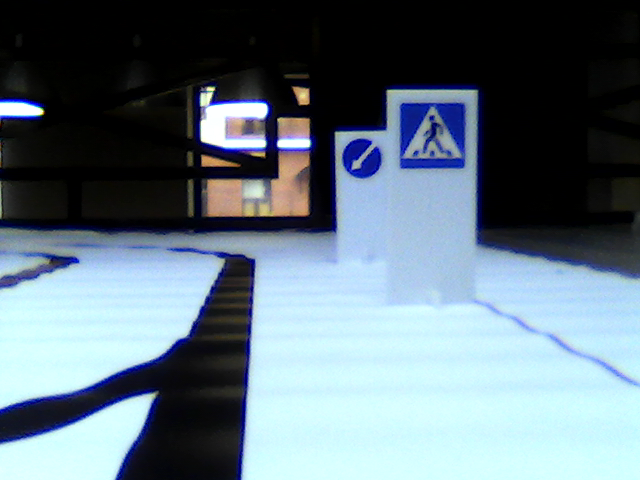pesh: (399, 98, 466, 168)
prep: (339, 138, 384, 178)
